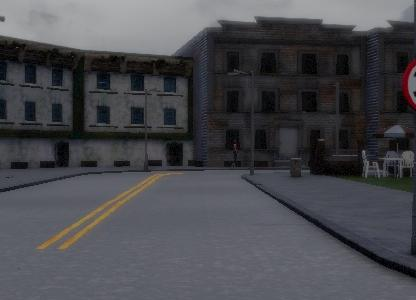Speed_30: (402, 47, 416, 123)
